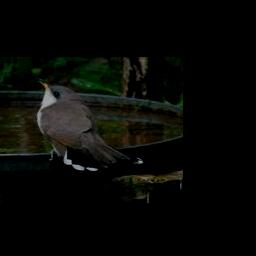Cuckoo: (34, 78, 143, 170)
